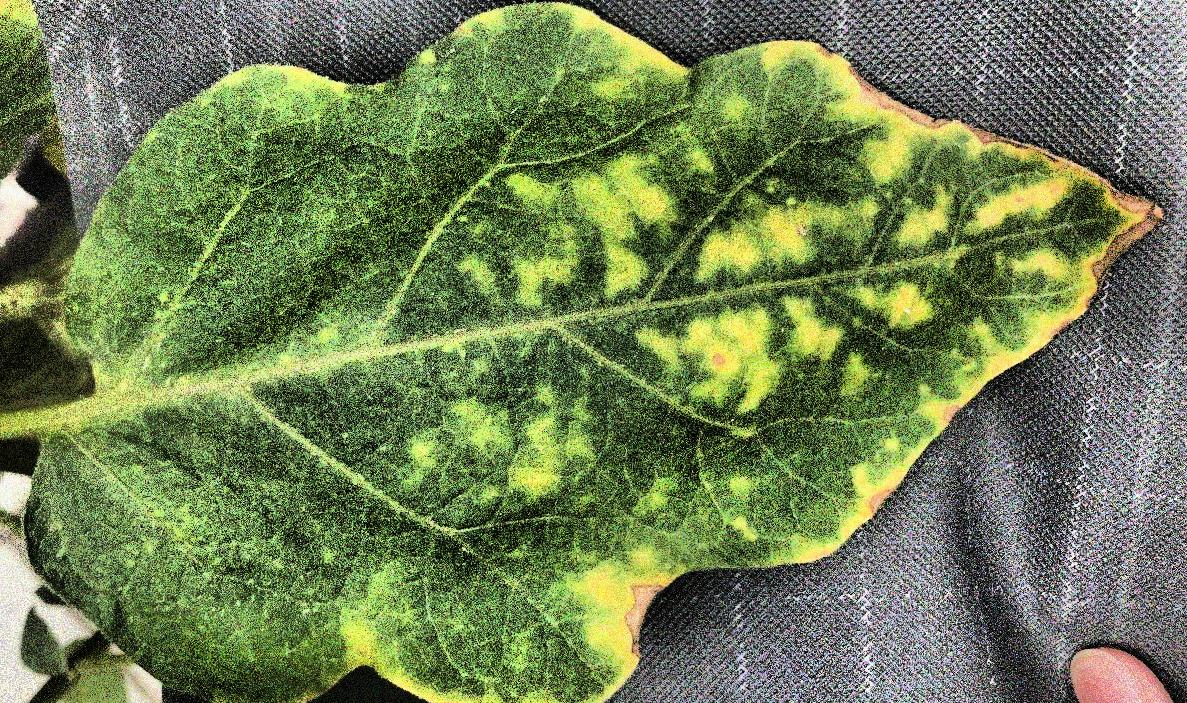Non-critical Stress: (1, 0, 1187, 703)
